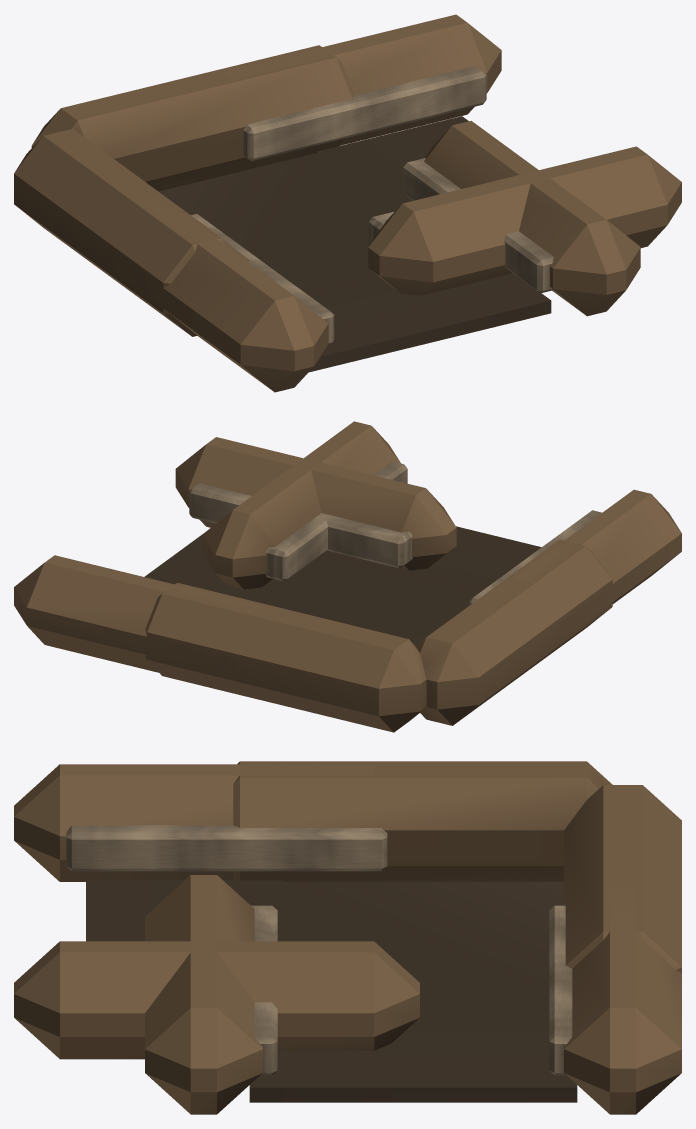
Rendered from trench_corner.glb.
3 views of the same model, one above another, from view 1: azimuth 30°, elevation 25°; view 2: azimuth 150°, elevation 25°; view 3: azimuth 270°, elevation 25° (orthographic). The views are drawn at different scales.
Parts seen in each view (by area): view 1: Earth revetment, Trench dark earth, Timber worn edges; view 2: Earth revetment, Trench dark earth, Timber worn edges; view 3: Earth revetment, Trench dark earth, Timber worn edges.
Boxes of the visible parts, <box> form: Earth revetment: <box>14,14,681,392</box>; Trench dark earth: <box>159,116,551,372</box>; Timber worn edges: <box>191,66,553,344</box>; Earth revetment: <box>14,421,681,732</box>; Trench dark earth: <box>144,526,541,645</box>; Timber worn edges: <box>189,461,601,605</box>; Earth revetment: <box>14,761,681,1114</box>; Trench dark earth: <box>86,880,577,1102</box>; Timber worn edges: <box>66,825,572,1075</box>.
Bounding box in the file's own units: 1.02 × 0.18 × 1.02.
Materials: 3 (1 with a texture image).
